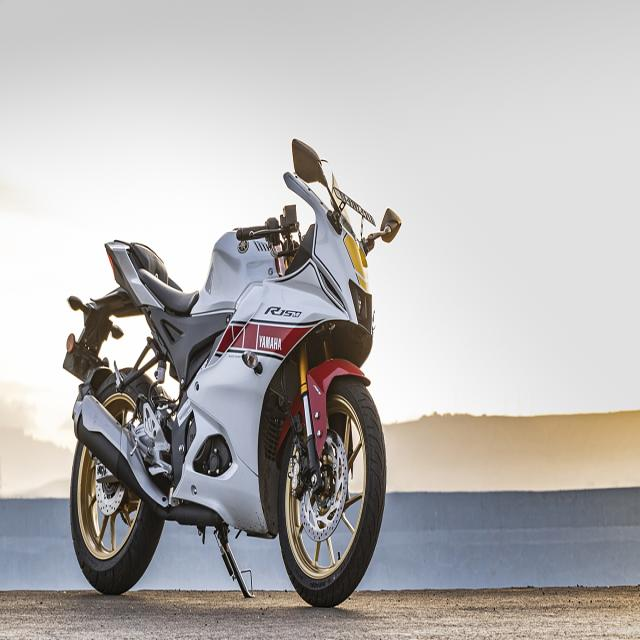Bike: (64, 160, 390, 613)
